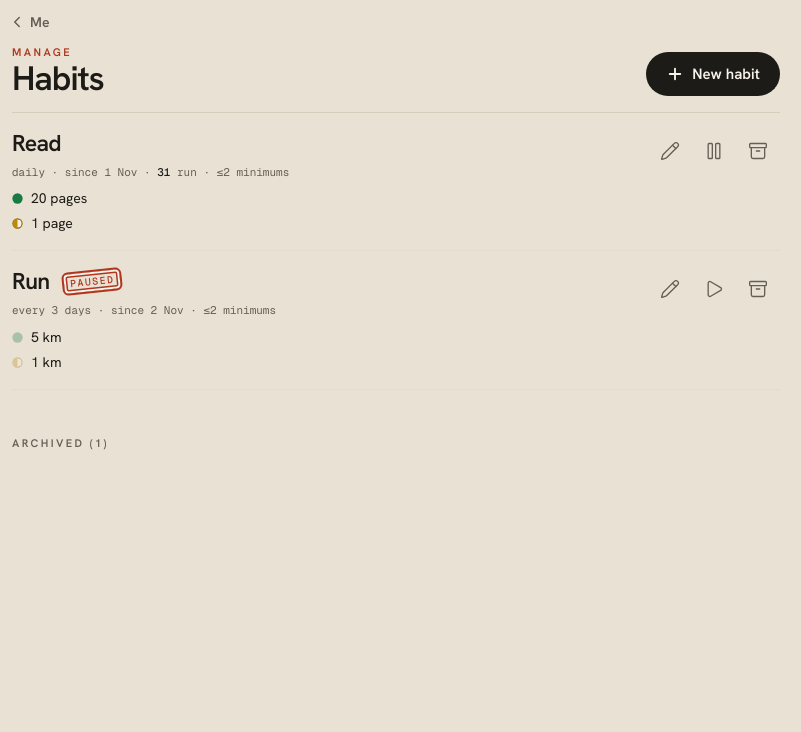
Scenario: HabitsPage › edits the texts and the yellow limit
Click the button named "Edit Read" at [670, 151], box [648,129,692,173]
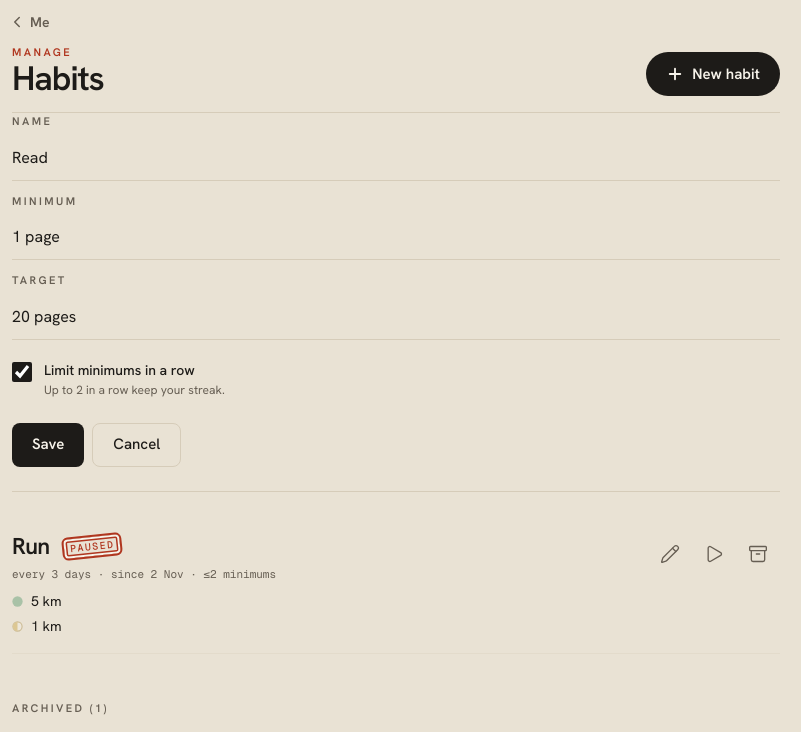
Replace the text in the field labelled "Name" with "Read more" at [396, 158], box [12,136,780,181]
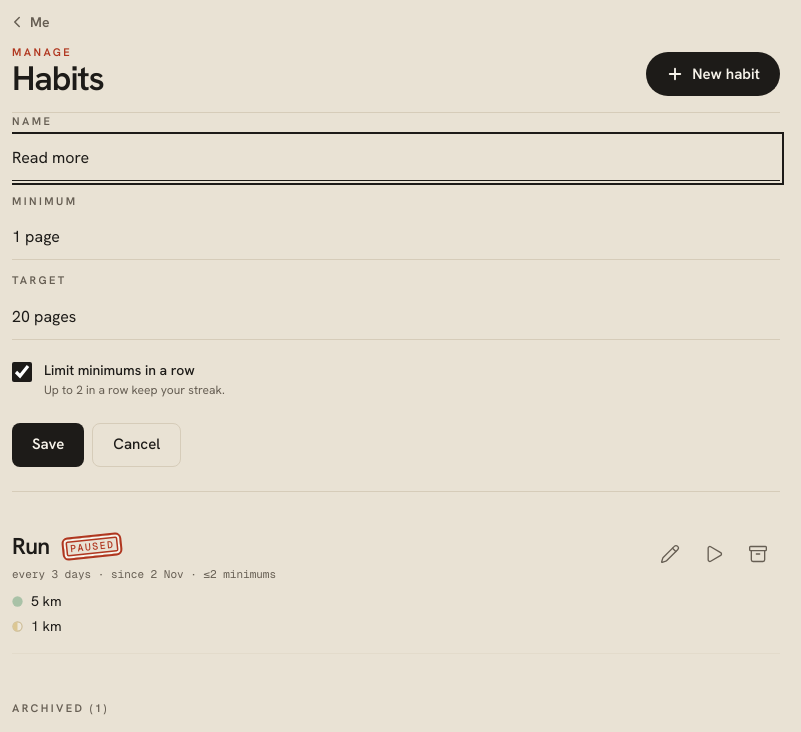
Click the checkbox labelled "Limit minimums in a row" at [22, 372], box [12,362,32,382]
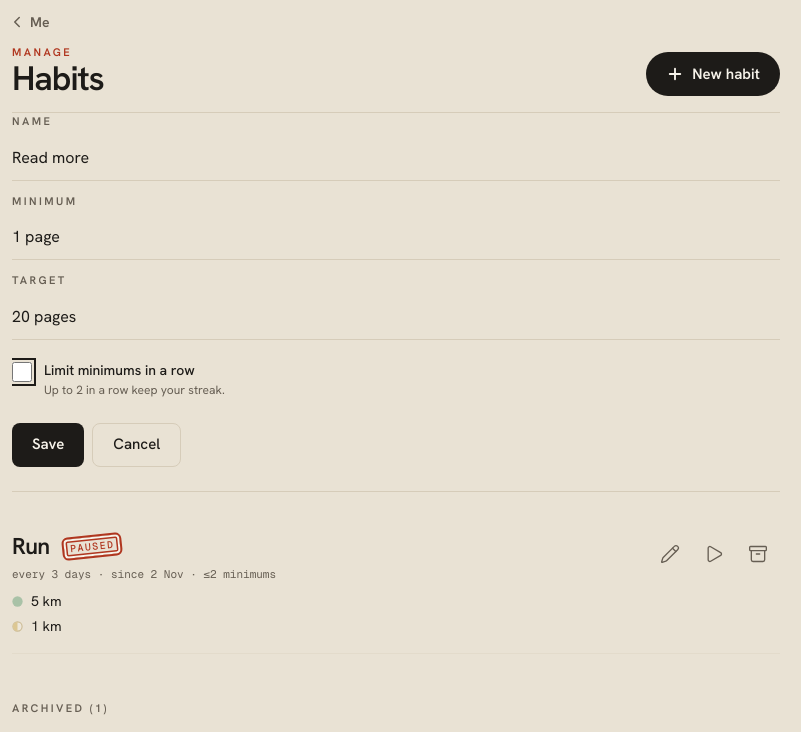
Click the button "Save" at [48, 445], box [12,423,84,467]
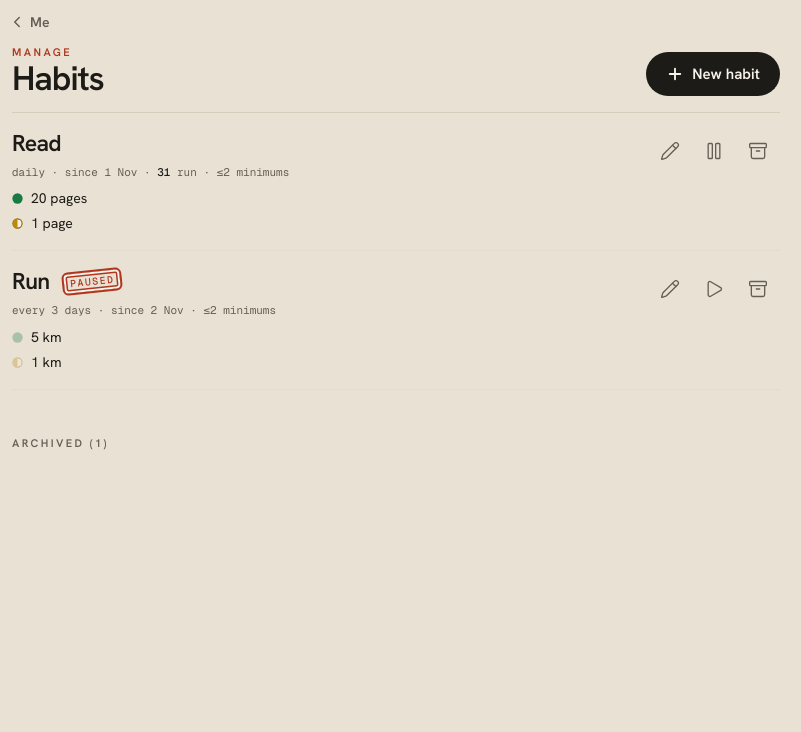
Expected: the button named "Edit Read" is shown, [648,129,692,173]
